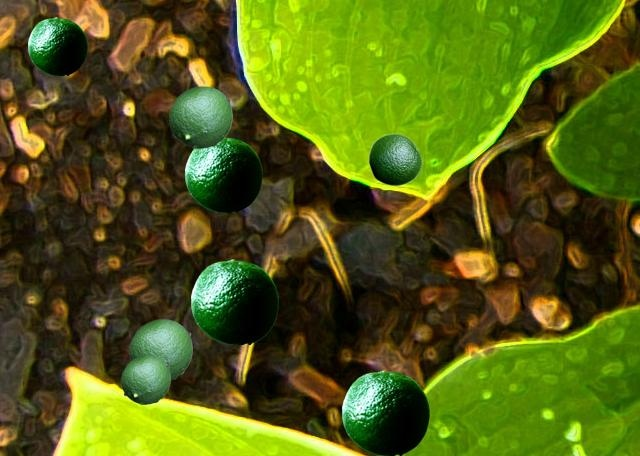calamansi: (342, 370, 428, 454), (191, 259, 277, 343), (185, 137, 261, 211), (169, 86, 231, 147), (129, 319, 191, 380), (28, 17, 86, 74), (368, 133, 421, 185), (121, 355, 169, 403)
